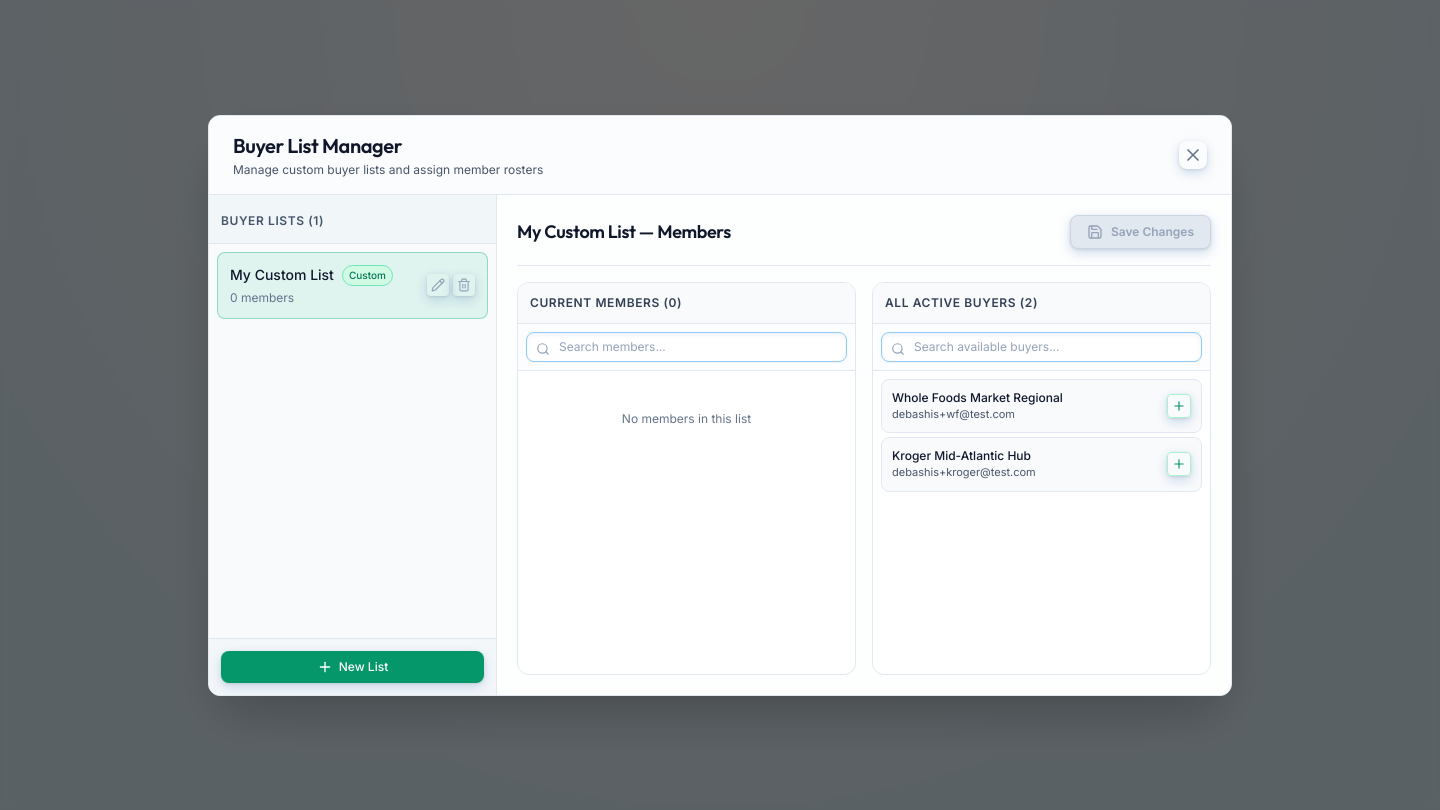
Test case: BuyerListManagerModal — Slice 3 & 4: Two-Panel Member Assignment & Dirty State Guard › should render buyers that only have companyName (MongoDB format) and allow searching and adding them
Expected: the text "Whole Foods Market Regional" is shown, [892,390,1063,406]
Expected: the text "Kroger Mid-Atlantic Hub" is shown, [892,448,1036,464]
# Test search by companyName
Type "Whole" into the field with test id "search-available-buyers" at (1042, 346), box [881,332,1202,362]
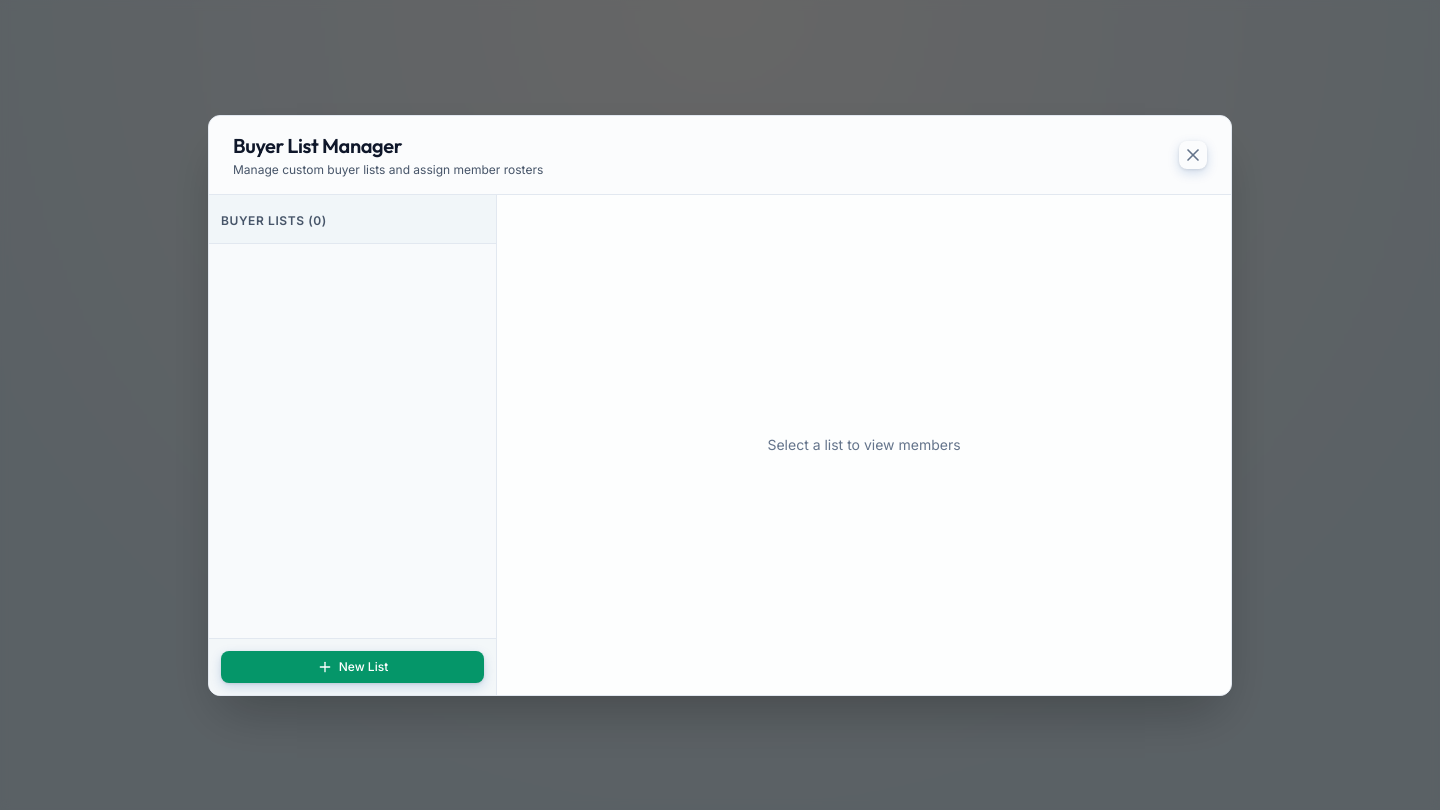
Expected: the text "Kroger Mid-Atlantic Hub" is gone
